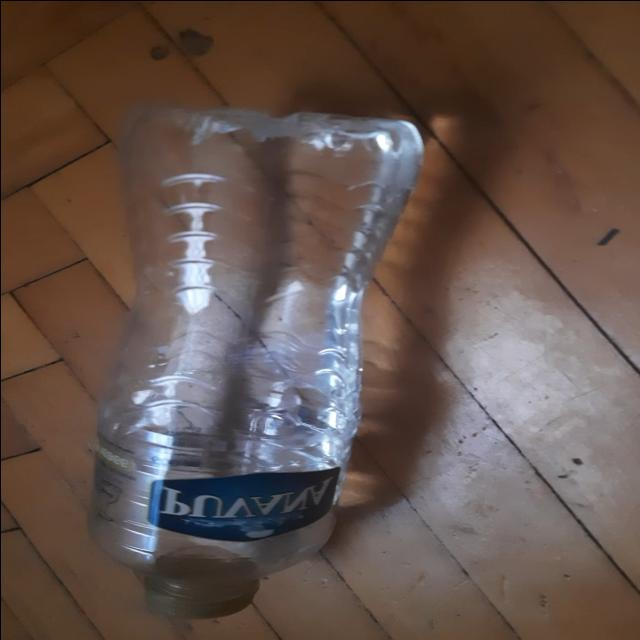Plastic: (85, 96, 426, 620)
